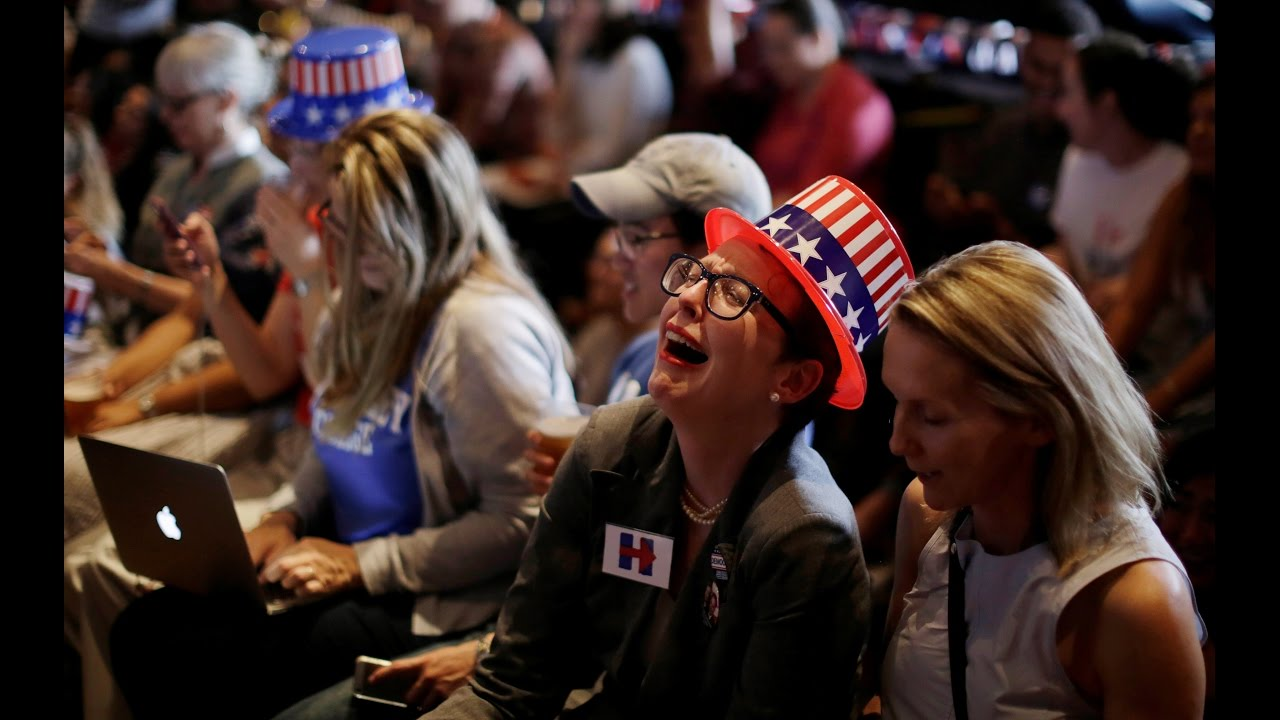sad: (649, 242, 783, 431)
